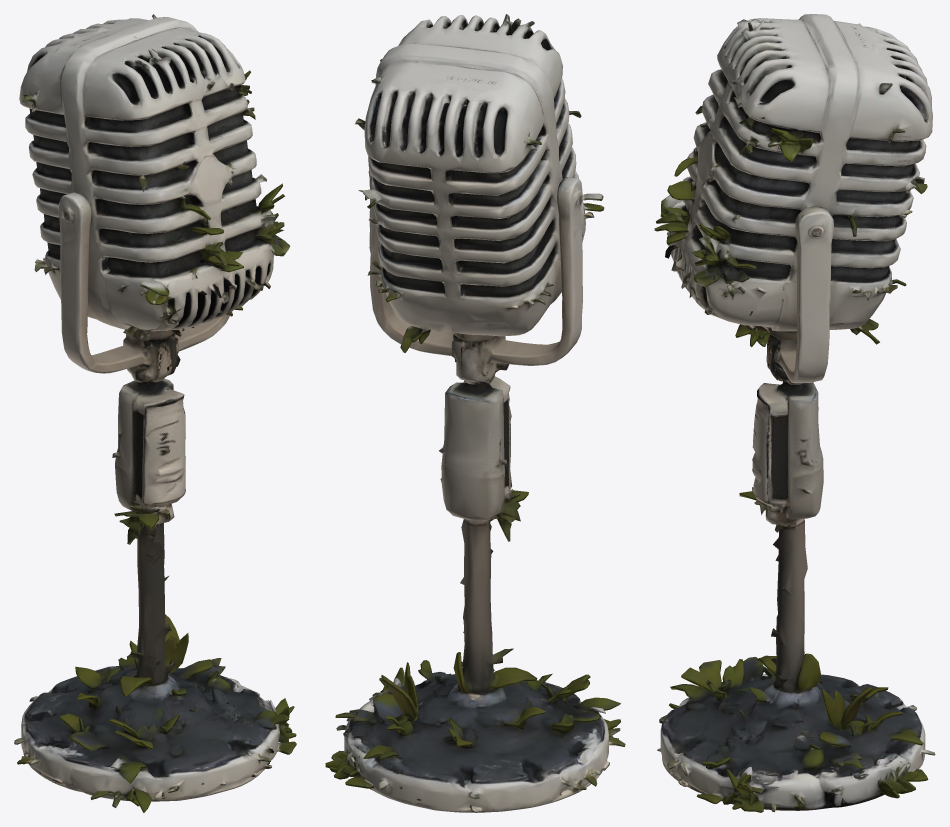
The model's file is vocals.glb.
The picture shows the model from 3 angles, left to right: view 1: azimuth 30°, elevation 25°; view 2: azimuth 150°, elevation 25°; view 3: azimuth 270°, elevation 25°; orthographic projection. The views are drawn at different scales.
Parts seen in each view (by area): view 1: tripo_node_31eee31f-e175-46a1-89f4-08bac50bfee4; view 2: tripo_node_31eee31f-e175-46a1-89f4-08bac50bfee4; view 3: tripo_node_31eee31f-e175-46a1-89f4-08bac50bfee4.
Boxes of the visible parts, x1=… form: tripo_node_31eee31f-e175-46a1-89f4-08bac50bfee4: x1=14, y1=14, x2=296, y2=812; tripo_node_31eee31f-e175-46a1-89f4-08bac50bfee4: x1=325, y1=14, x2=625, y2=812; tripo_node_31eee31f-e175-46a1-89f4-08bac50bfee4: x1=654, y1=14, x2=935, y2=812.
Bounding box in the file's own units: 0.3612 × 1 × 0.3492.
Materials: 1 (1 with a texture image).
